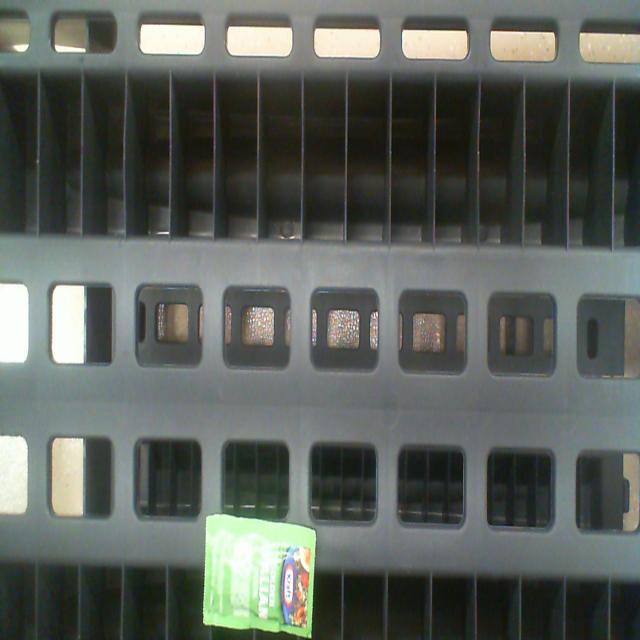snack: (204, 516, 317, 637)
